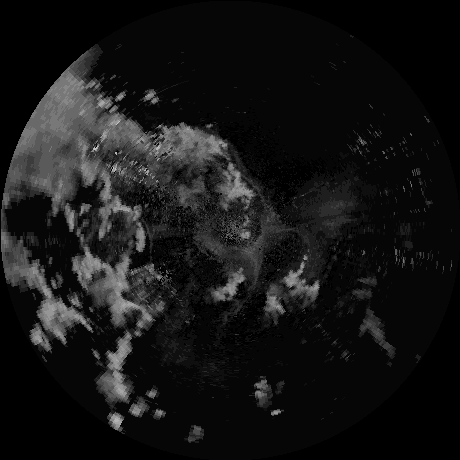frontgust: (227, 280, 257, 321), (243, 176, 269, 207), (141, 216, 153, 258)
